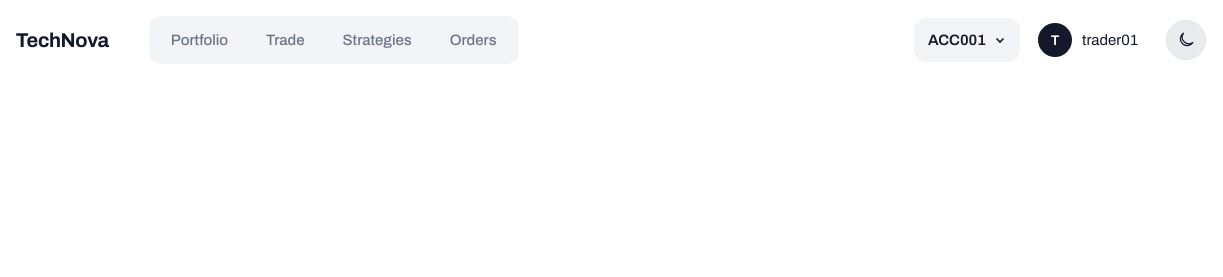
Test: NavBarComponent › phone menu › closes when Change account is clicked
Click the button with class "menu-button": click(1093, 40) [1036,21,1150,59]
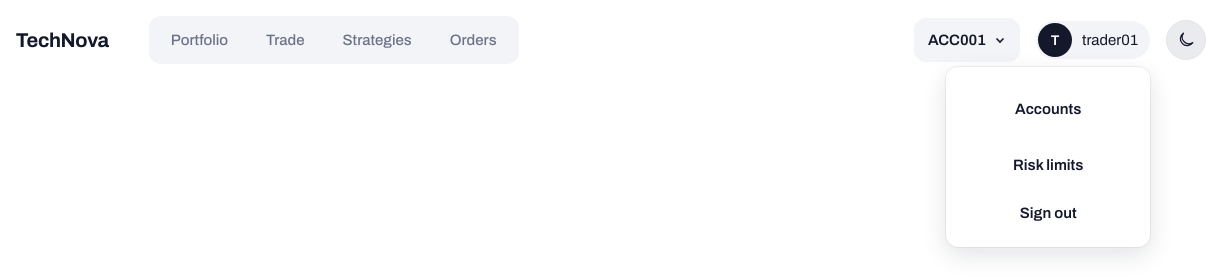
Click the link with class "menu-change-account" showing "Accounts": click(1048, 109) [1015,101,1081,117]
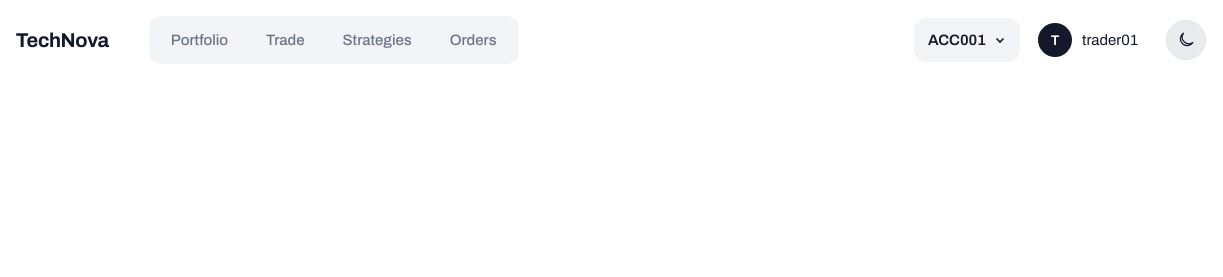
Expected: the element with class "menu" is gone
